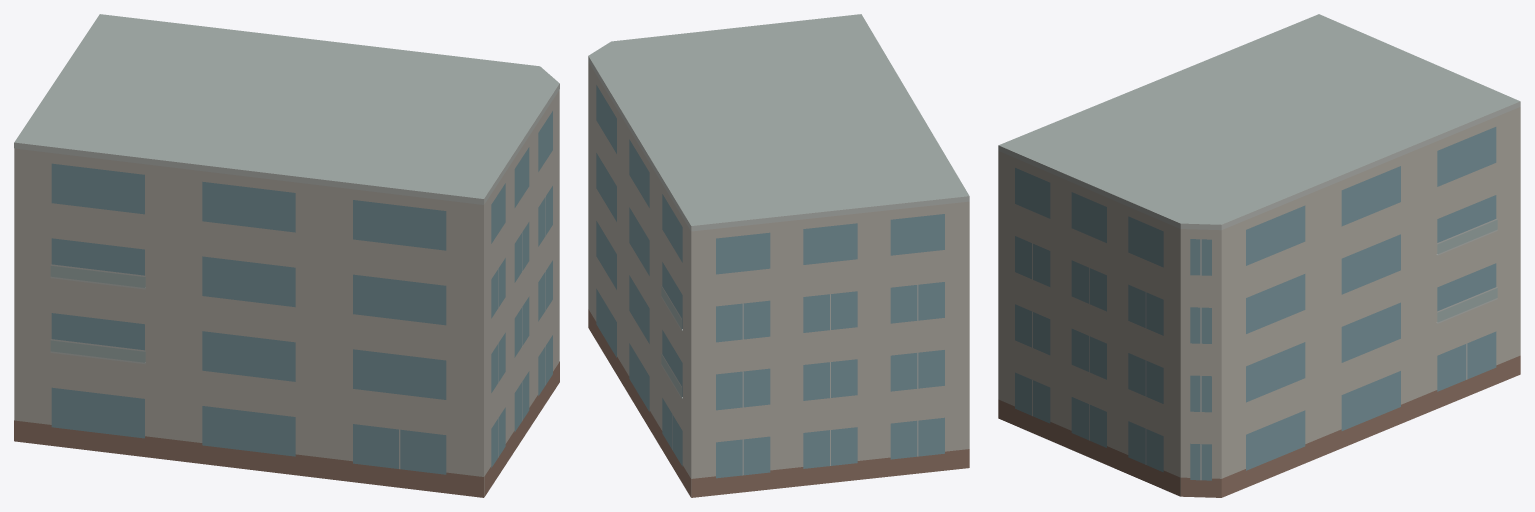
The model's file is survey-upis-32568334.glb.
The picture shows the model from 3 angles, left to right: view 1: azimuth 30°, elevation 25°; view 2: azimuth 150°, elevation 25°; view 3: azimuth 270°, elevation 25°; orthographic projection. The views are drawn at different scales.
Parts seen in each view (by area): view 1: survey-upis-32568334.tmp; view 2: survey-upis-32568334.tmp; view 3: survey-upis-32568334.tmp.
Boxes of the visible parts, box(x1,y1,x2,y2) form: survey-upis-32568334.tmp: box(14, 14, 559, 497); survey-upis-32568334.tmp: box(588, 14, 969, 497); survey-upis-32568334.tmp: box(998, 14, 1520, 497).
Size of the model in its own units: 20.37 by 12.3 by 21.33.
